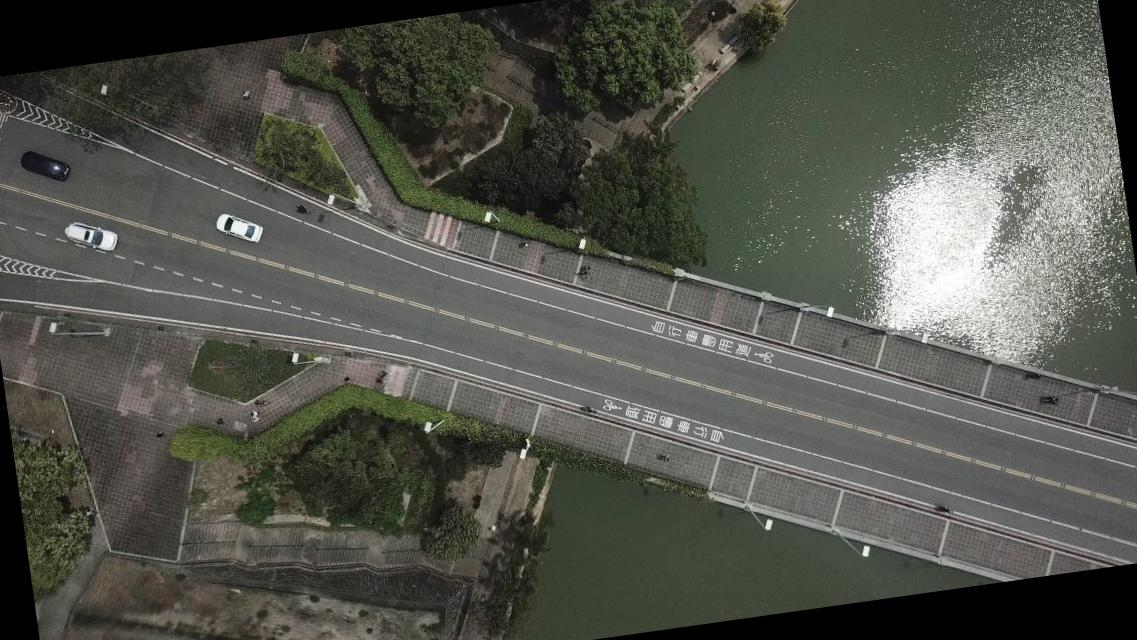vehicle: (64, 216, 118, 257), (20, 148, 72, 188), (214, 208, 265, 248)
